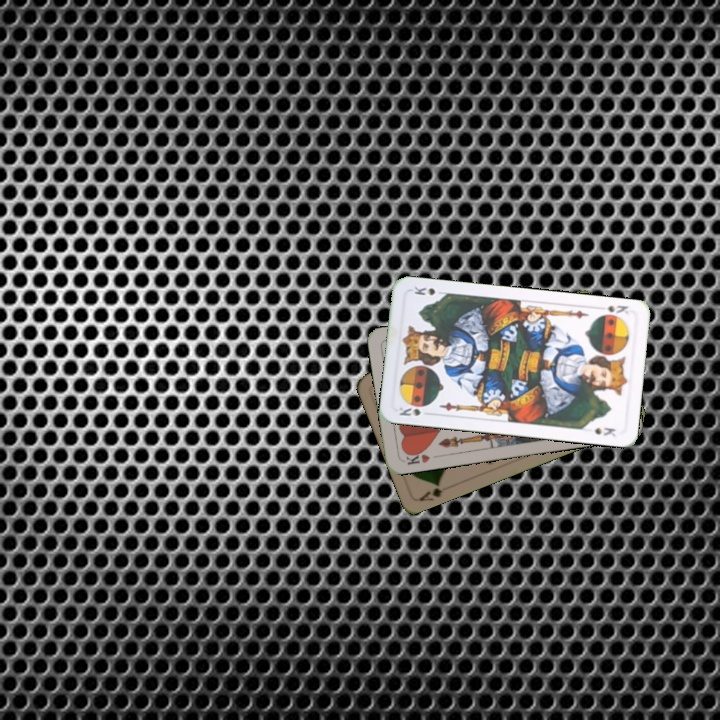GA: (415, 479, 445, 504)
HK: (400, 446, 432, 467)
SK: (395, 403, 434, 419), (604, 301, 631, 317)
